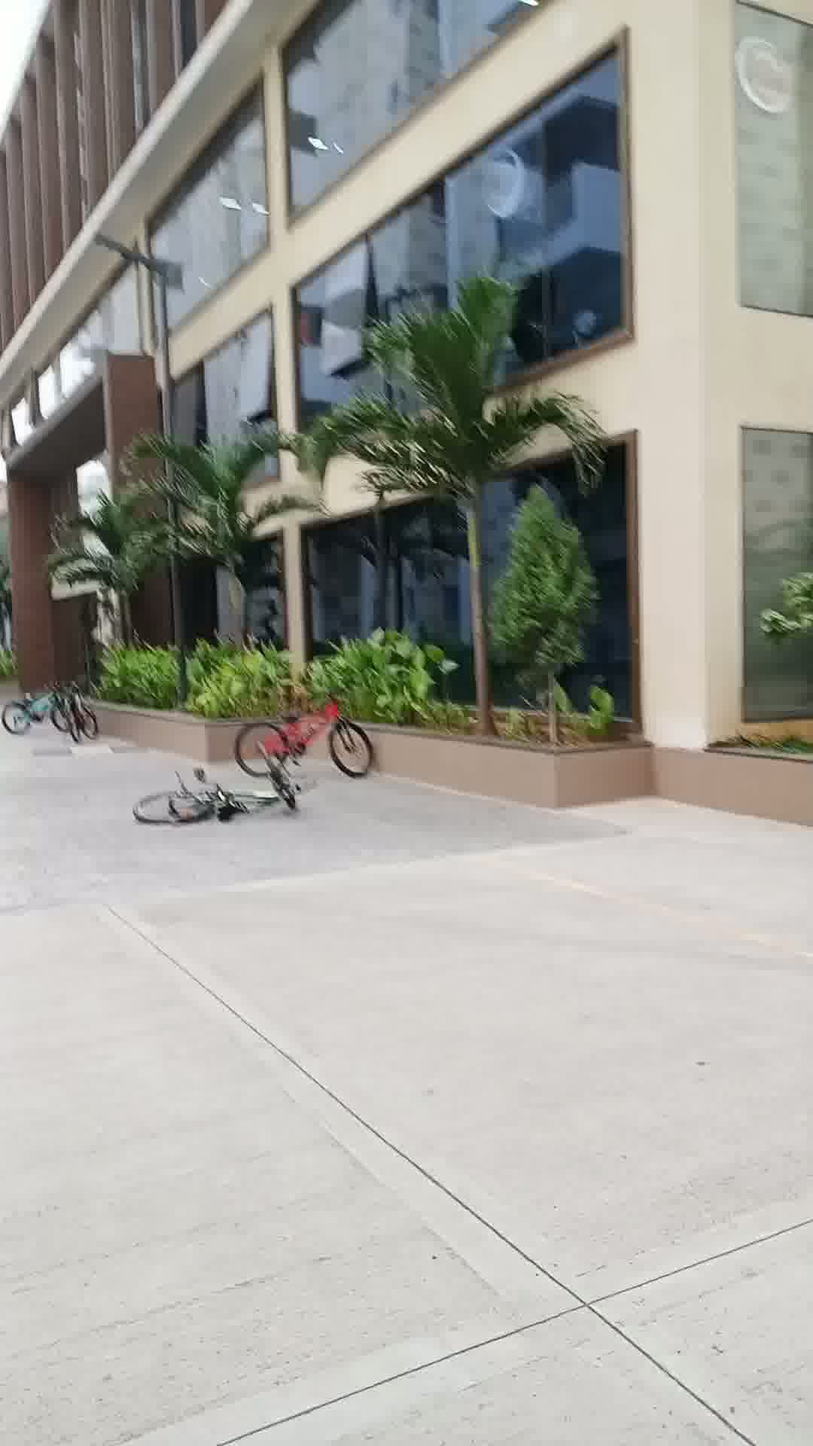bicycle: (226, 681, 401, 780), (105, 776, 314, 832), (5, 673, 95, 744)
tree: (307, 287, 603, 762), (111, 417, 322, 713), (41, 487, 188, 727)
